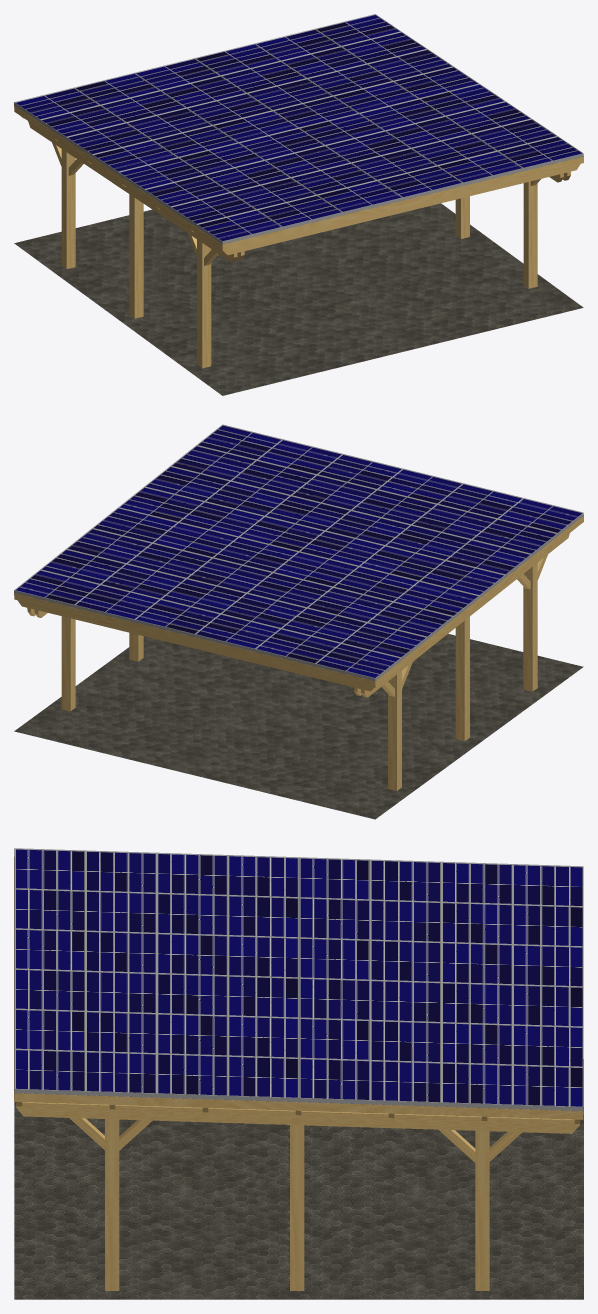
File: carport.glb
3 renders of one model, top to bottom at view 1: azimuth 30°, elevation 25°; view 2: azimuth 150°, elevation 25°; view 3: azimuth 270°, elevation 25°, orthographic. The views are drawn at different scales.
Parts seen in each view (by area): view 1: Plane, sp1, sp3, sp2, sp4, sp5, sp6, pillars, spBox, crossbars, beamsLeft; view 2: Plane, sp4, sp5, sp6, sp1, sp2, sp3, pillars, spBox, crossbars, beamsLeft; view 3: Plane, sp3, sp6, sp1, sp2, sp4, sp5, beamsRight, pillars, spBox.
Boxes of the visible parts, box(x1,y1,x2,y2) form: Plane: box(14, 203, 583, 395); sp1: box(118, 142, 342, 244); sp3: box(359, 83, 583, 185); sp2: box(239, 113, 463, 215); sp4: box(14, 73, 238, 174); sp5: box(135, 43, 358, 142); sp6: box(255, 14, 478, 112); pillars: box(61, 149, 537, 368); spBox: box(14, 105, 583, 250); crossbars: box(21, 116, 580, 255); beamsLeft: box(28, 121, 244, 262); Plane: box(14, 634, 583, 819); sp4: box(255, 566, 479, 681); sp5: box(134, 537, 358, 651); sp6: box(14, 507, 238, 622); sp1: box(359, 483, 583, 597); sp2: box(239, 454, 462, 565); sp3: box(119, 424, 342, 536); pillars: box(61, 563, 537, 790); spBox: box(14, 516, 583, 687); crossbars: box(17, 600, 374, 691); beamsLeft: box(353, 533, 569, 697); Plane: box(14, 1059, 583, 1299); sp3: box(14, 1008, 298, 1102); sp6: box(299, 1017, 583, 1111); sp1: box(14, 848, 298, 937); sp2: box(14, 928, 298, 1017); sp4: box(299, 857, 583, 946); sp5: box(299, 937, 583, 1026); beamsRight: box(16, 1102, 579, 1133); pillars: box(105, 1119, 489, 1290); spBox: box(14, 857, 583, 1119).
Bounding box in the file's own units: 6 × 2.45 × 6.
Materials: 14 (14 with a texture image).
